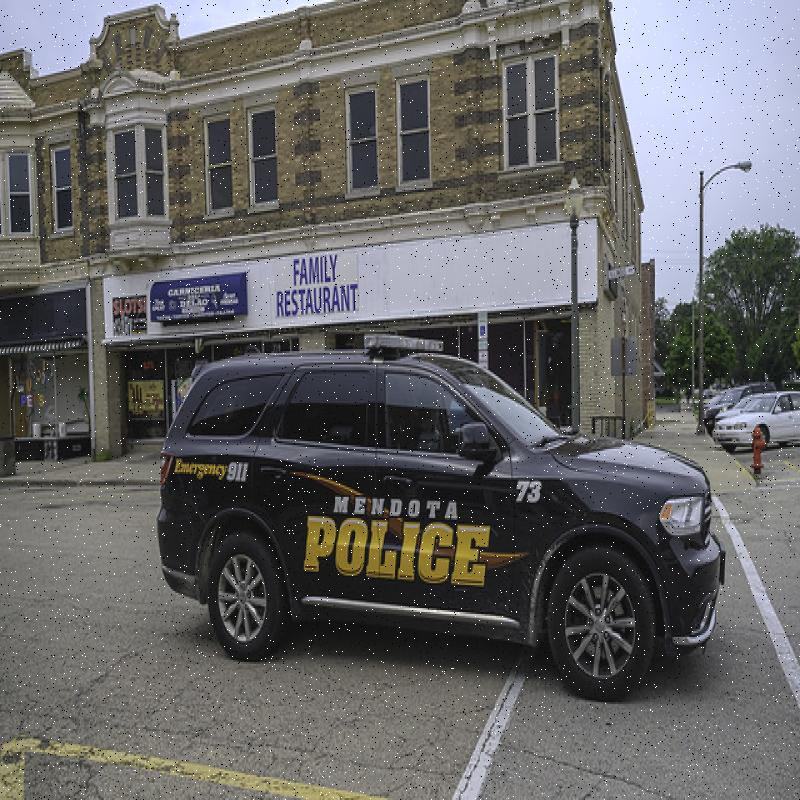AmbulanceSiren: (354, 314, 446, 364)
